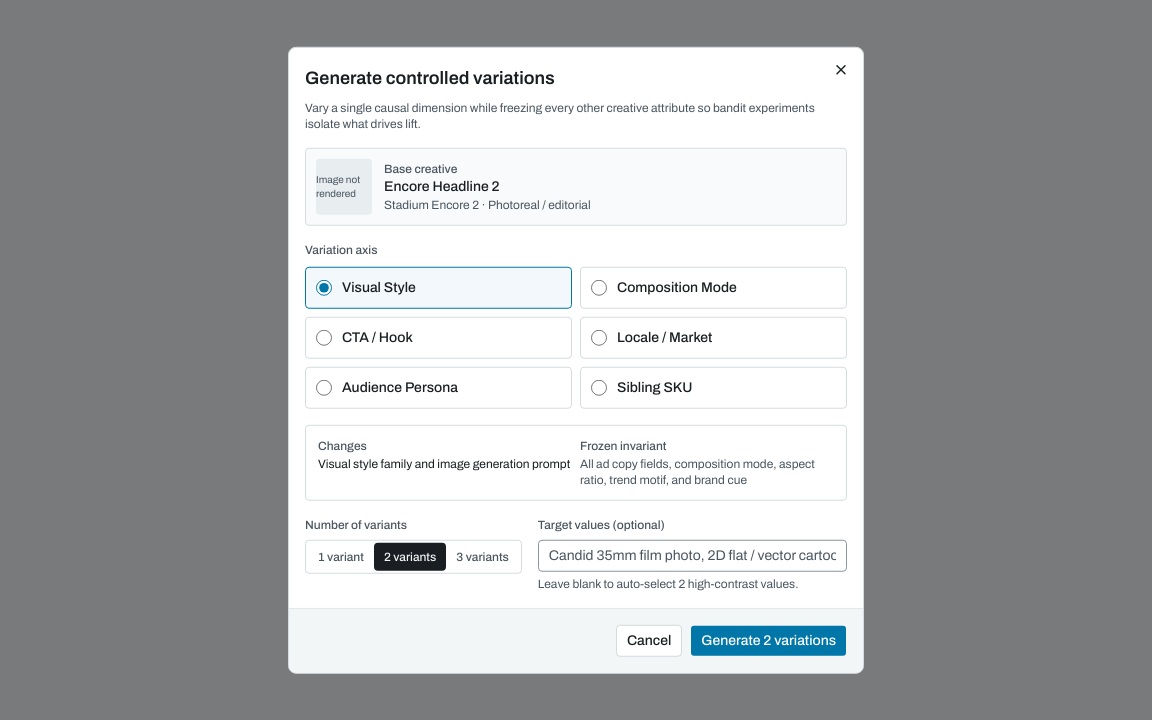
Test: VariationDrawer › surfaces backend errors via role=alert without closing the dialog
Click the button "Generate 2 variations": point(769, 640) [690,624,847,656]
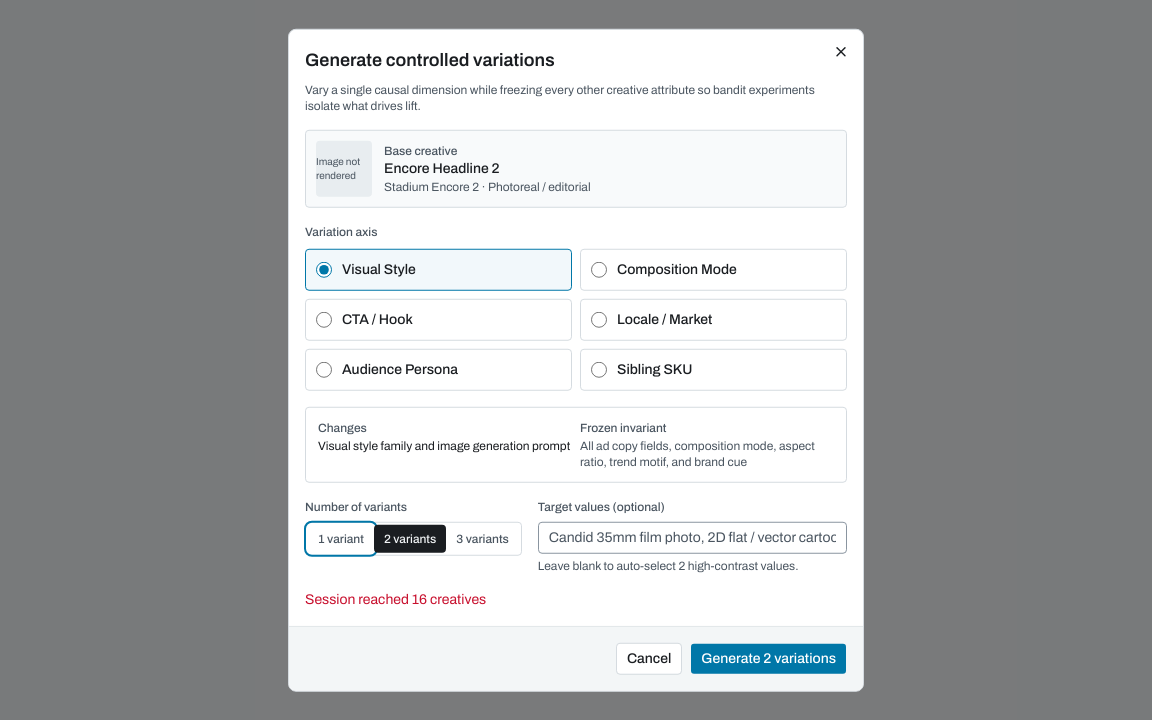
expect the message reads "Session reached 16 creatives": met, box [305,591,486,606]
